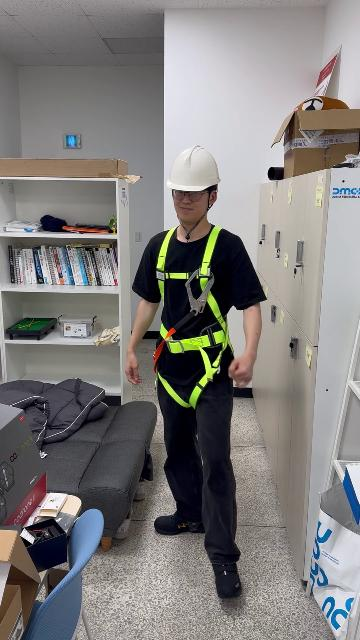helmet_worn: (165, 145, 222, 192)
shoe_worn: (212, 562, 242, 598), (154, 515, 205, 535)
vest_worn: (150, 229, 233, 402)
